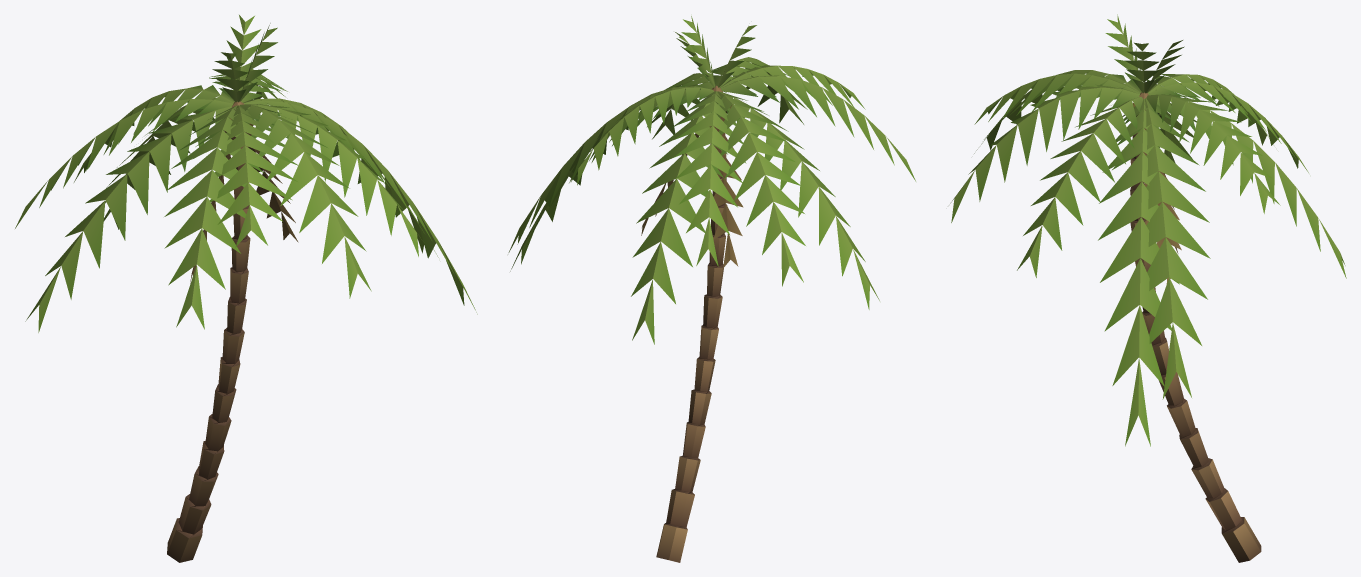
File: palm_bent.glb
3 renders of one model, left to right at view 1: azimuth 30°, elevation 25°; view 2: azimuth 150°, elevation 25°; view 3: azimuth 270°, elevation 25°, orthographic. The views are drawn at different scales.
Parts seen in each view (by area): view 1: palm_bent_leaf, palm_bent_solid; view 2: palm_bent_leaf, palm_bent_solid; view 3: palm_bent_leaf, palm_bent_solid.
Boxes of the visible parts, left/top/right/bottom form: palm_bent_leaf: left=15, top=15, right=477, bottom=332; palm_bent_solid: left=167, top=101, right=253, bottom=562; palm_bent_leaf: left=508, top=16, right=915, bottom=344; palm_bent_solid: left=656, top=85, right=732, bottom=562; palm_bent_leaf: left=950, top=14, right=1346, bottom=446; palm_bent_solid: left=1130, top=92, right=1261, bottom=562.
Size of the model in its own units: 8.17 by 10.46 by 7.13.
